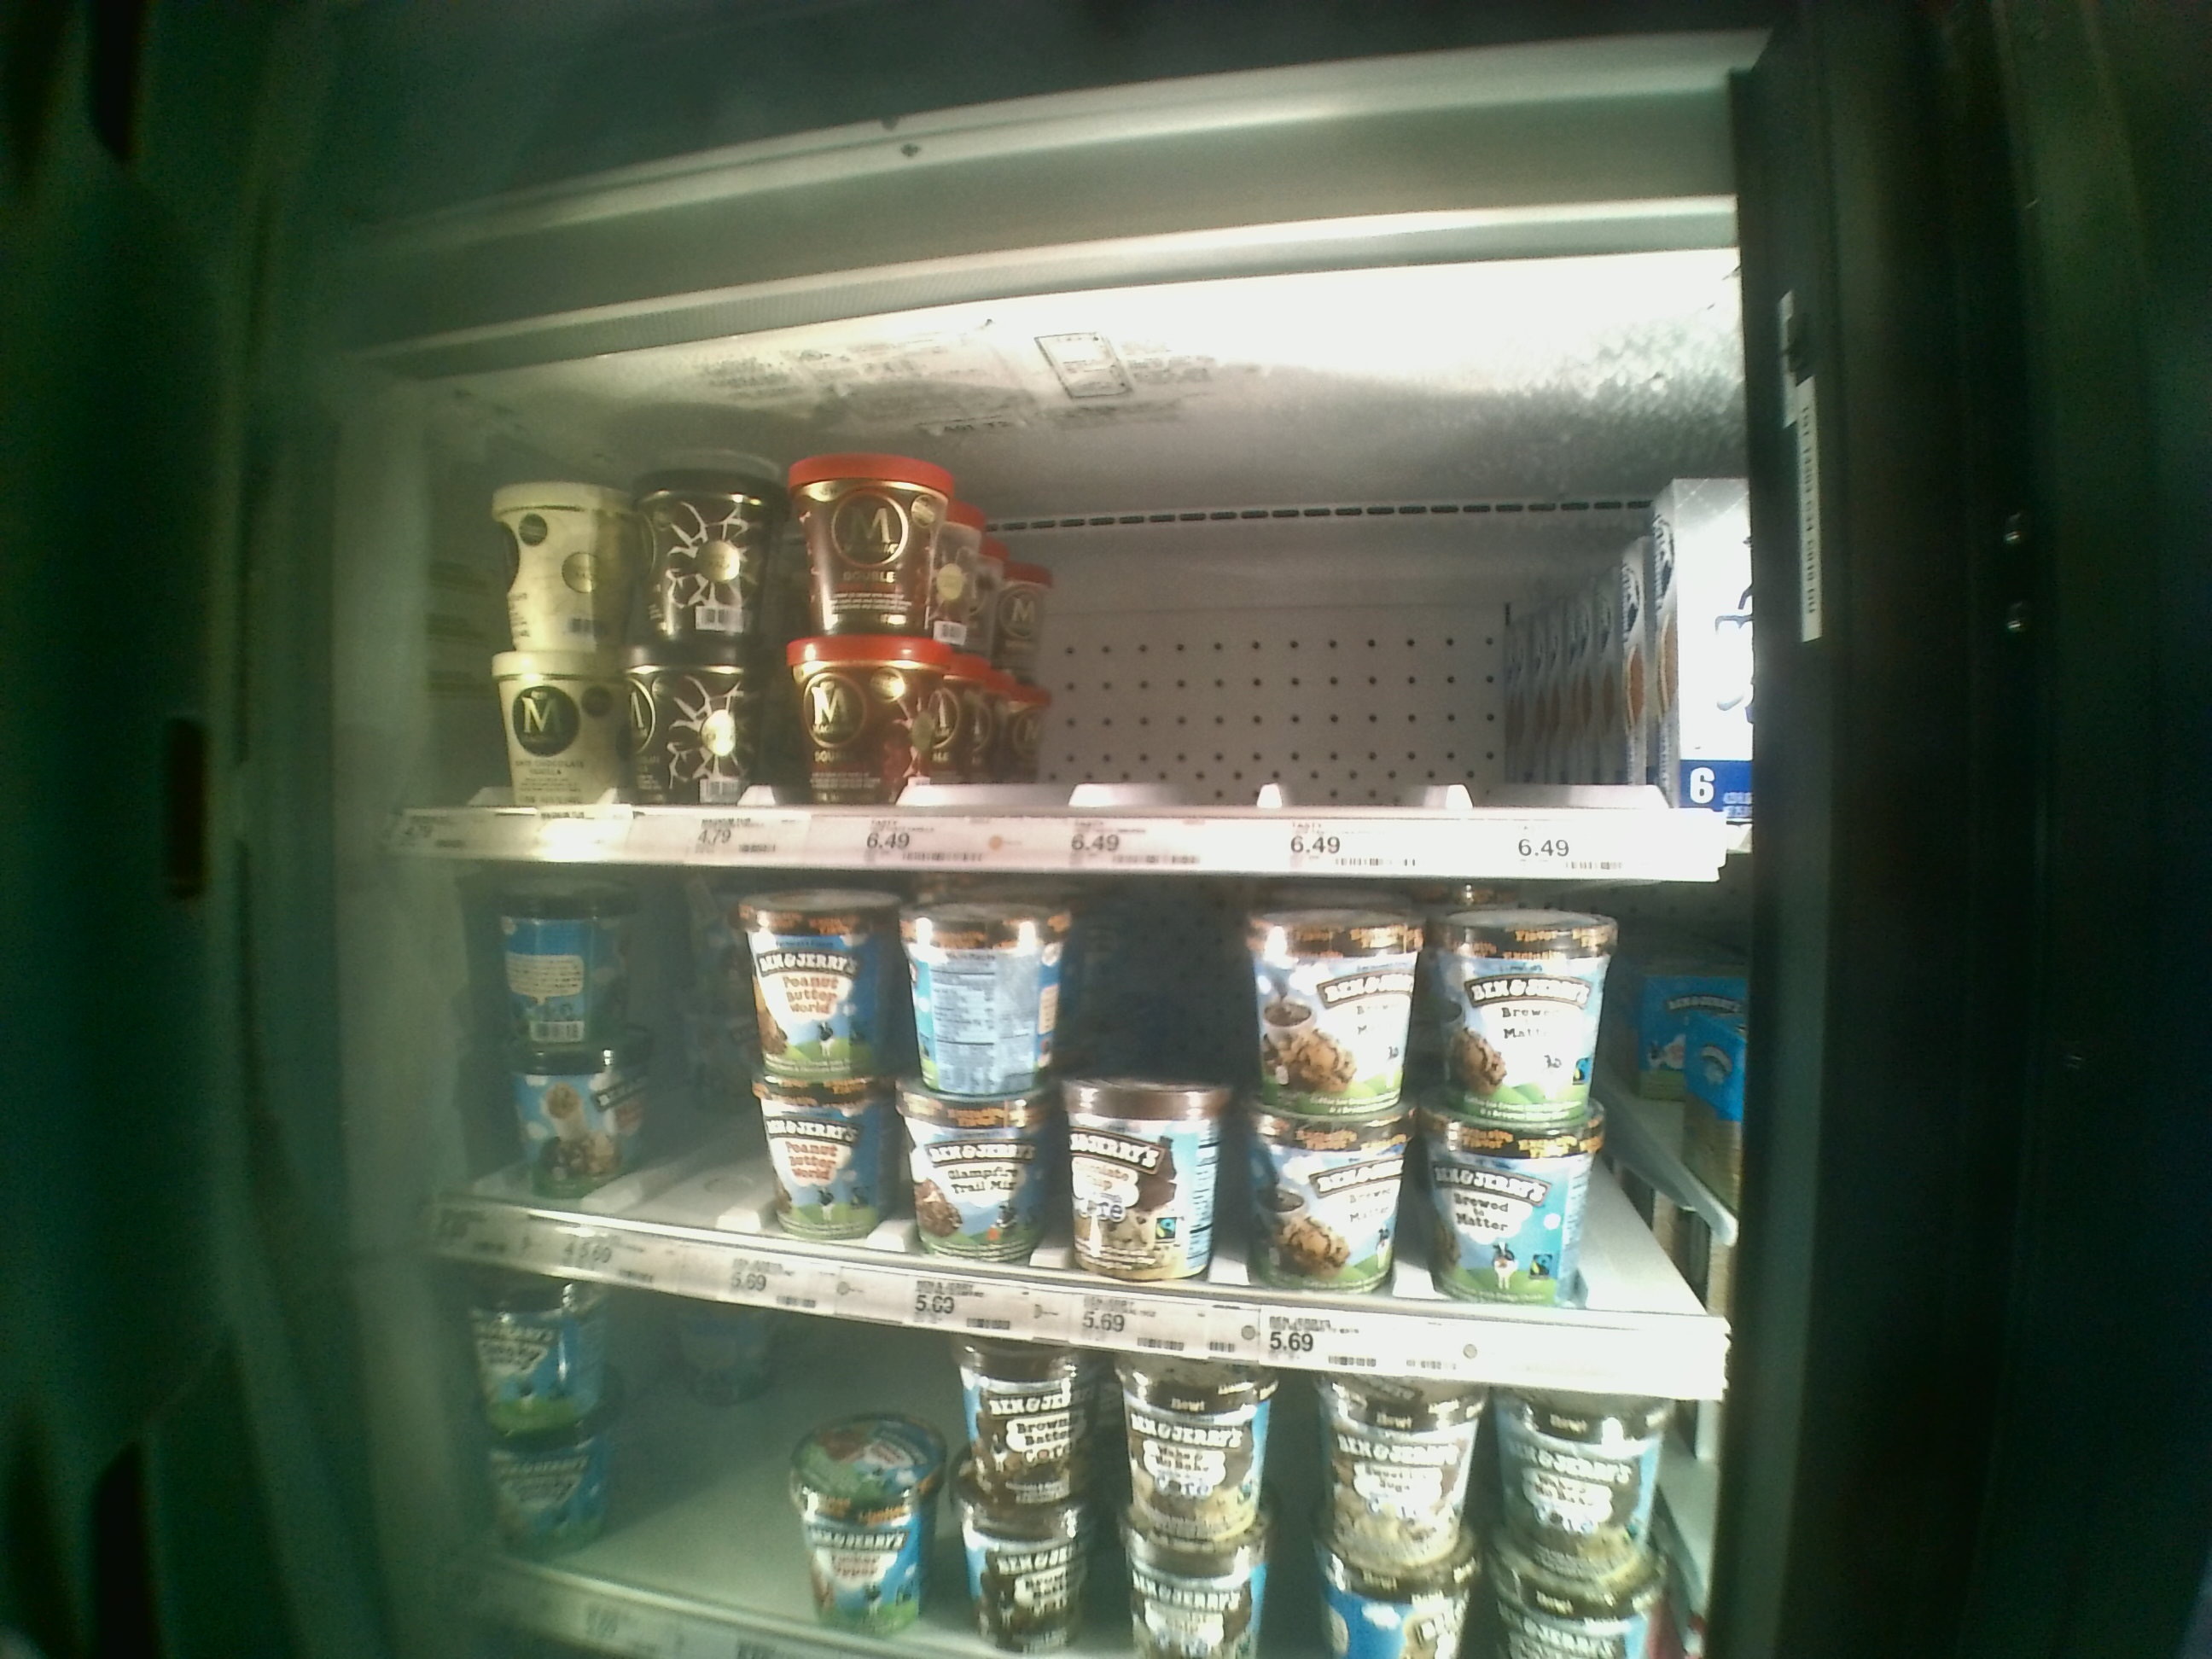shelf: (395, 847, 1735, 1413), (401, 401, 1749, 873)
